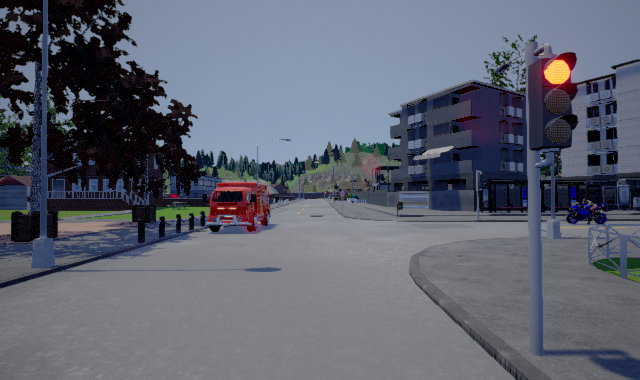motobike: (566, 202, 608, 224)
traffic_light: (528, 51, 579, 151)
traffic_sign: (338, 190, 347, 199)
vehicle: (205, 182, 271, 233)
